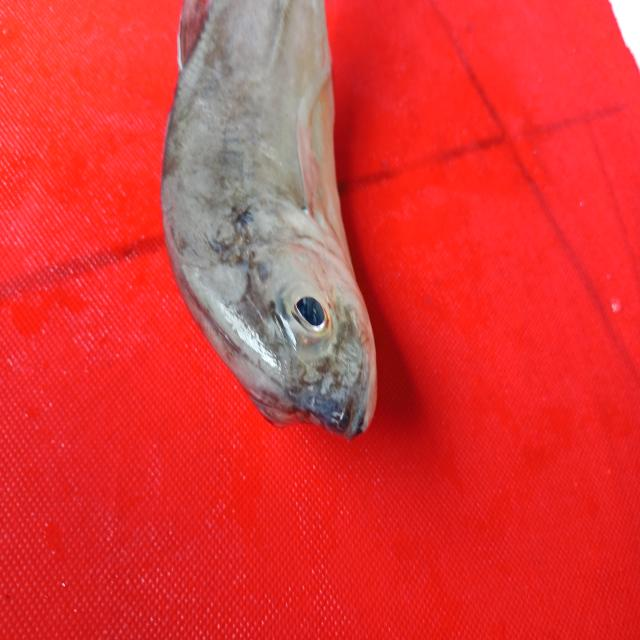ikan: (149, 6, 387, 453)
